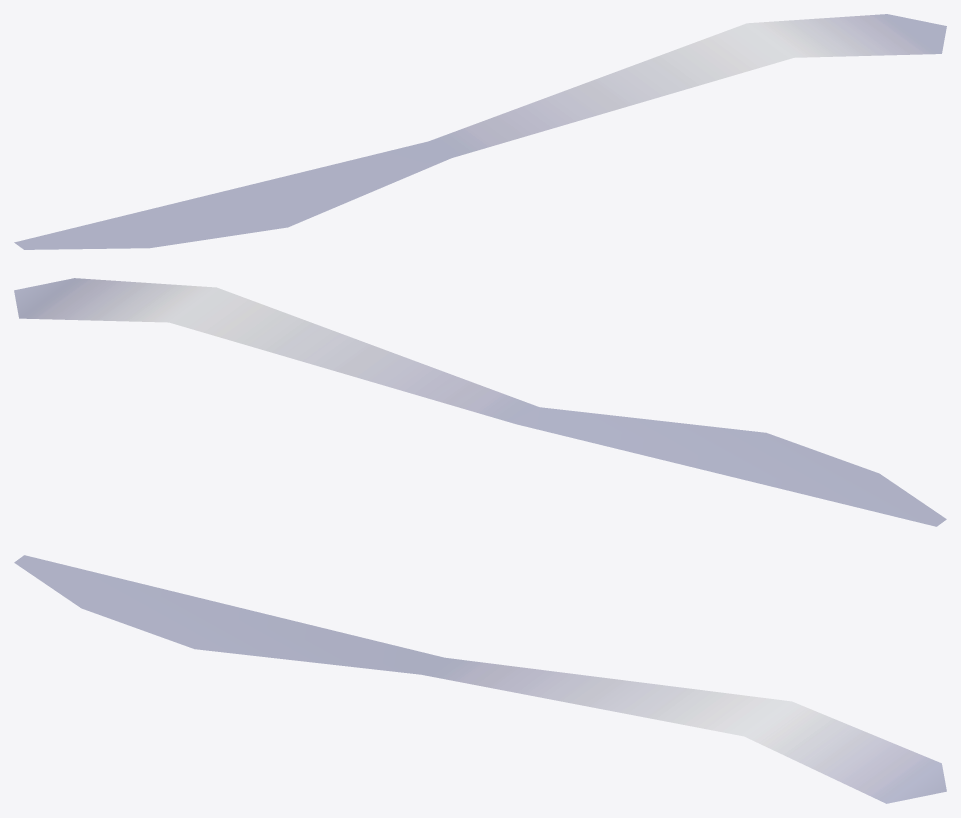
The model's file is utensil-knife.glb.
3 views of the same model, one above another, from view 1: azimuth 30°, elevation 25°; view 2: azimuth 150°, elevation 25°; view 3: azimuth 330°, elevation 25° (orthographic).
Parts seen in each view (by area): view 1: utensil-knife; view 2: utensil-knife; view 3: utensil-knife.
Boxes of the visible parts, x1=… form: utensil-knife: x1=14, y1=14, x2=946, y2=249; utensil-knife: x1=14, y1=278, x2=946, y2=526; utensil-knife: x1=14, y1=555, x2=946, y2=803.
Size of the model in its own units: 0.6008 by 0.0178 by 0.0778.
Materials: 1 (1 with a texture image).
